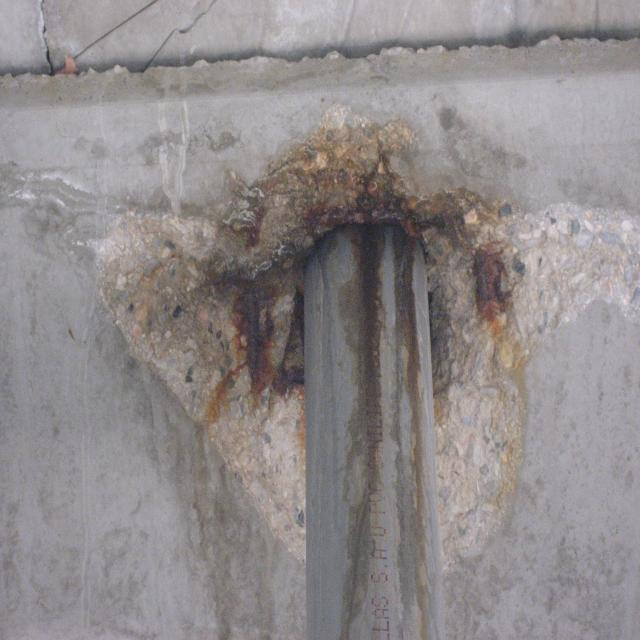corrosion: (190, 110, 558, 632)
